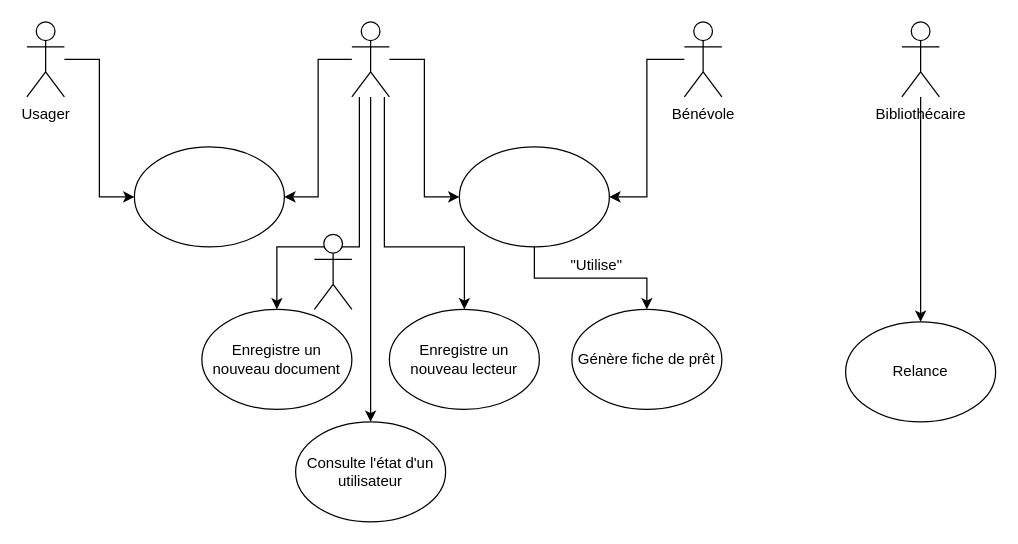
This 1018x544 diagram has some shape labels left out. Here are the shapes that lost their labels. From the top down, the box of each, then its label:
(351, 21, 389, 97): Employé
(133, 146, 284, 247): Consulte les documents
(458, 146, 609, 247): Enregistre de nouveau emprunt
(313, 233, 352, 309): Actor
